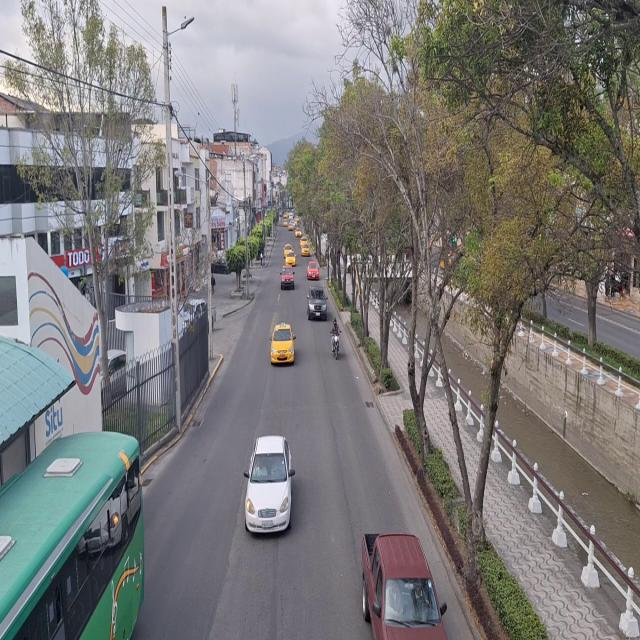CMT: (356, 523, 446, 640)
MOTORCYCLE: (330, 328, 340, 358)
SED: (244, 433, 295, 533), (269, 322, 296, 368)
